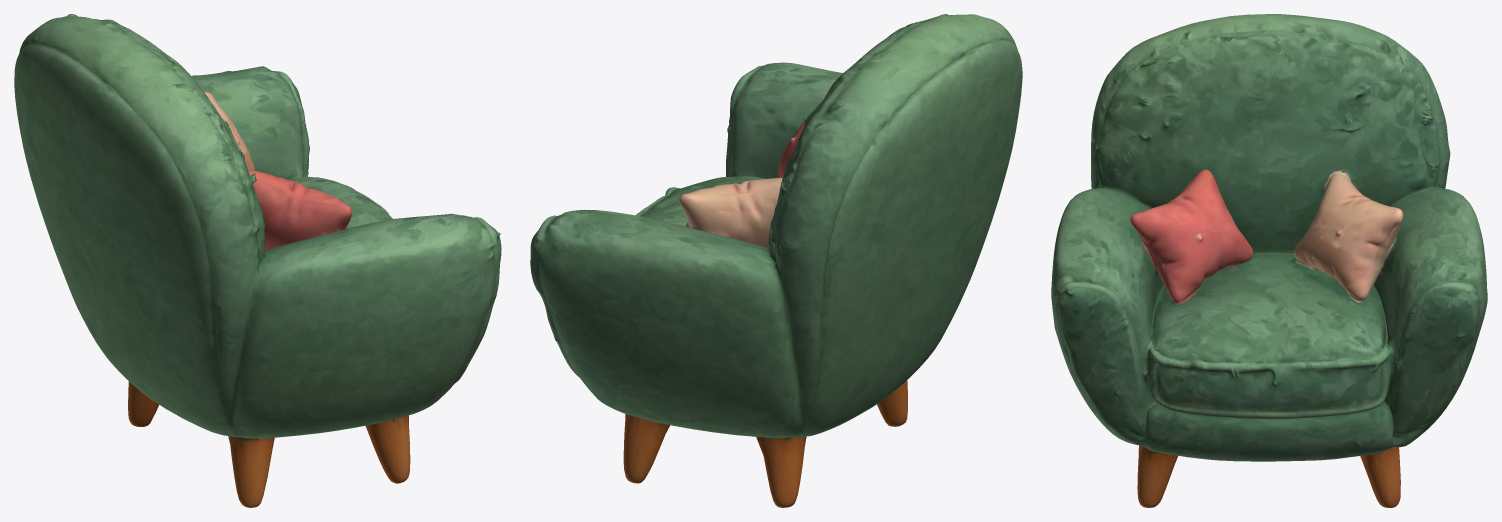
Rendered from room-armchair.glb.
3 renders of one model, left to right at view 1: azimuth 30°, elevation 25°; view 2: azimuth 150°, elevation 25°; view 3: azimuth 270°, elevation 25°, orthographic. The views are drawn at different scales.
Parts seen in each view (by area): view 1: tripo_node_531bd85b-8ee4-461c-ba03-3f8286798dc9; view 2: tripo_node_531bd85b-8ee4-461c-ba03-3f8286798dc9; view 3: tripo_node_531bd85b-8ee4-461c-ba03-3f8286798dc9.
Boxes of the visible parts, left/top/right/bottom form: tripo_node_531bd85b-8ee4-461c-ba03-3f8286798dc9: left=14, top=14, right=501, bottom=507; tripo_node_531bd85b-8ee4-461c-ba03-3f8286798dc9: left=530, top=14, right=1022, bottom=507; tripo_node_531bd85b-8ee4-461c-ba03-3f8286798dc9: left=1051, top=14, right=1487, bottom=507.
Bounding box in the file's own units: 0.7857 × 0.9774 × 0.9763.
1 material, 1 textured.
